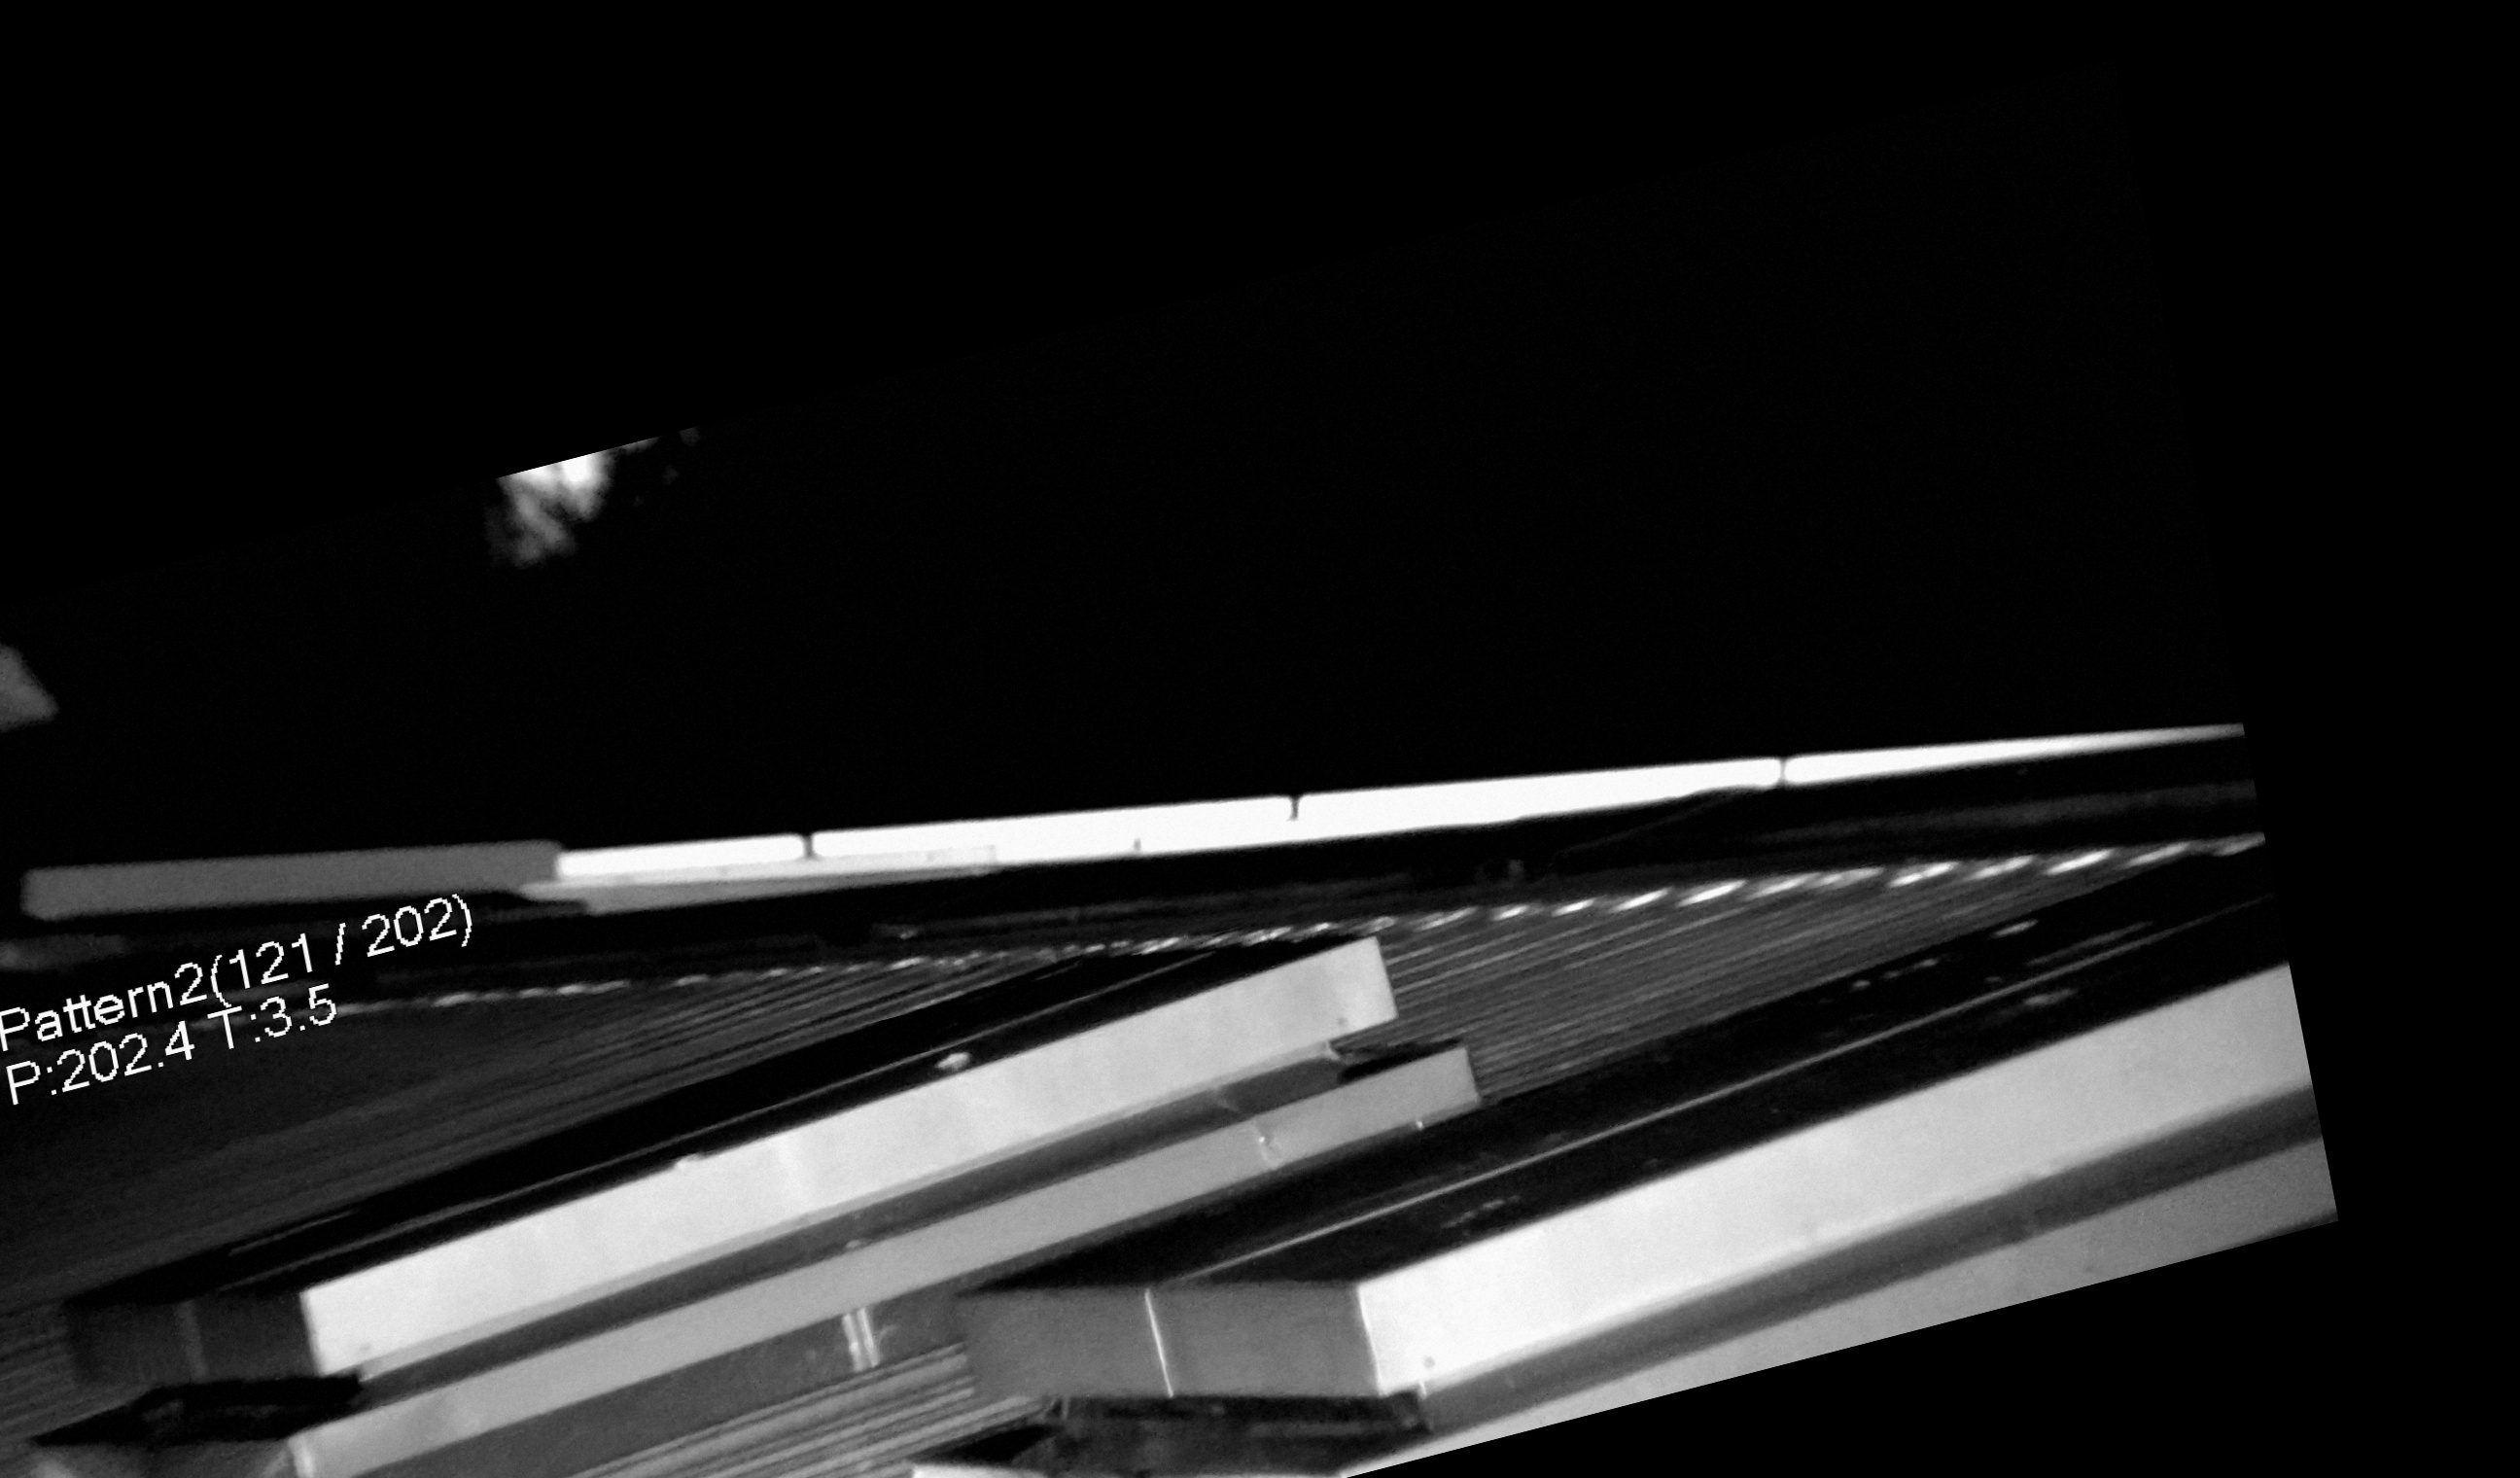Other: (0, 1316, 408, 1478)
